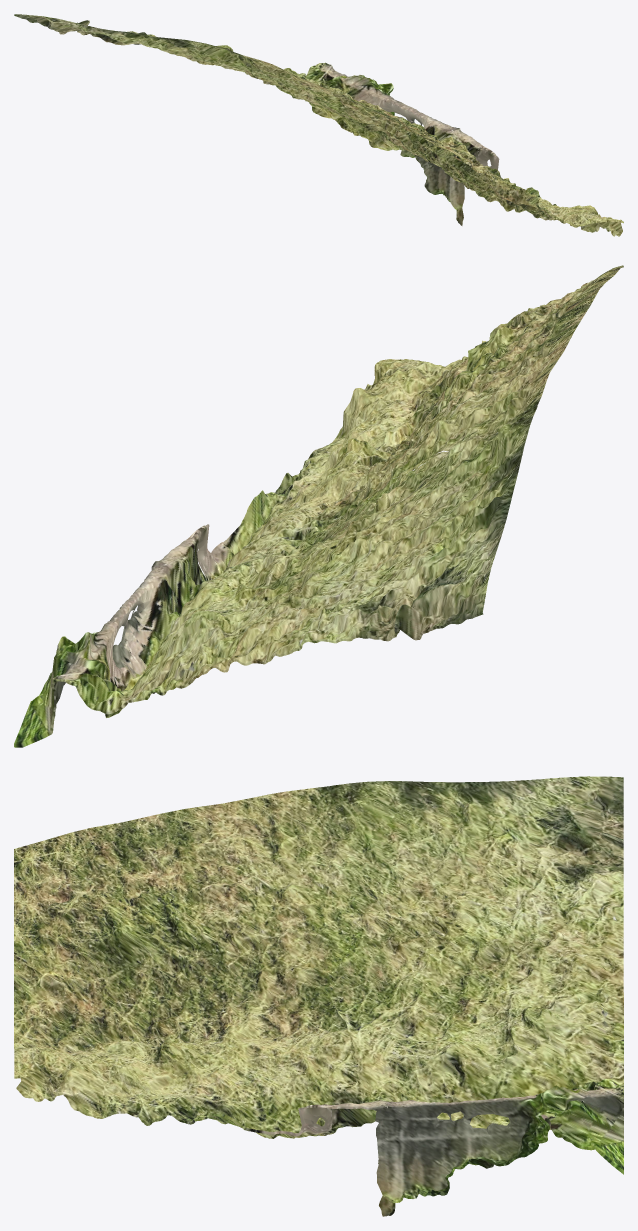
3 views of the same model, one above another, from view 1: azimuth 30°, elevation 25°; view 2: azimuth 150°, elevation 25°; view 3: azimuth 270°, elevation 25° (orthographic). The views are drawn at different scales.
Visible parts, largest first — view 1: node_90; view 2: node_90; view 3: node_90.
Part boxes in pixels (<box>): node_90: <box>14,14,623,236</box>; node_90: <box>14,265,623,747</box>; node_90: <box>14,776,623,1216</box>.
Bounding box in the file's own units: 7.9 × 5.62 × 10.68.
Materials: 1 (1 with a texture image).
